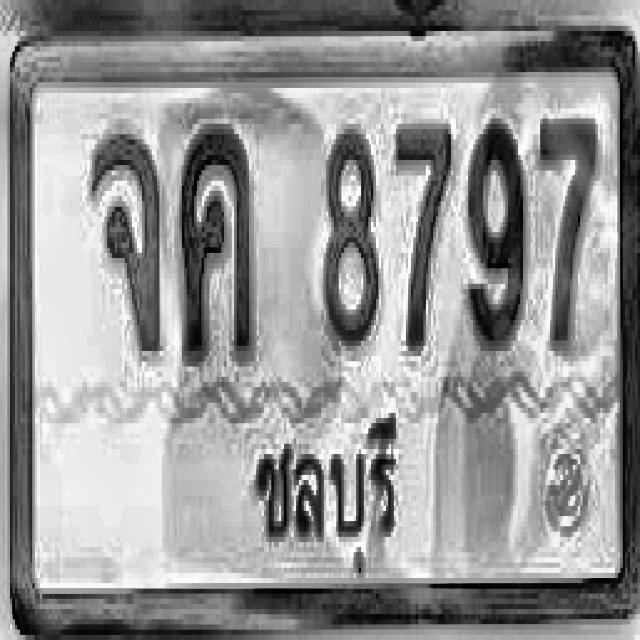license-plate: (10, 31, 640, 630)
